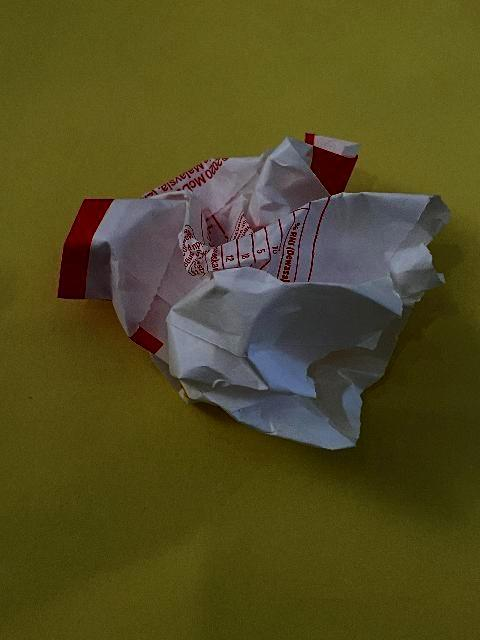paperbag: (56, 130, 452, 453)
